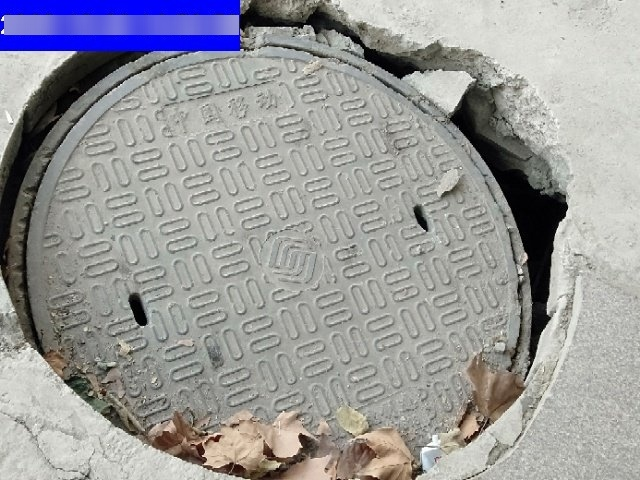uncovered: (10, 27, 532, 477)
